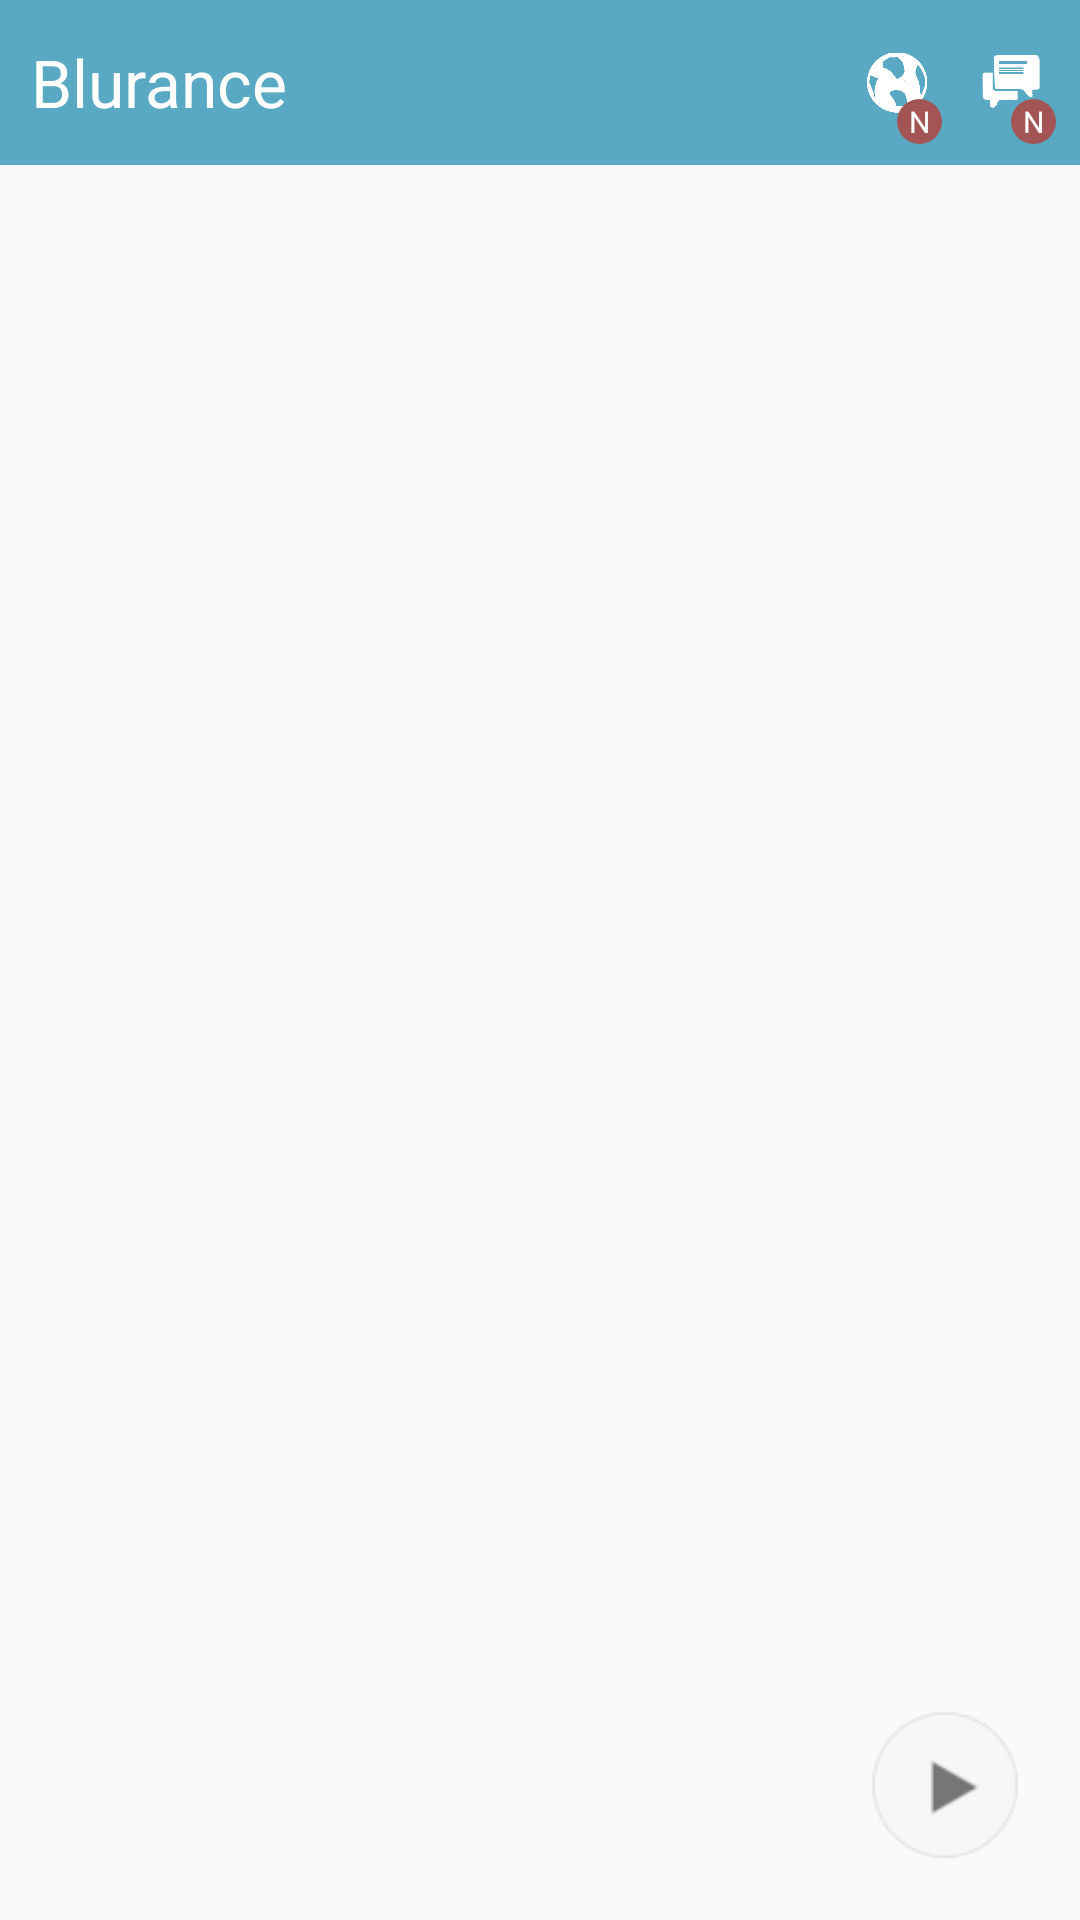

Icons on this 1080px x 1920px Android screen, each with the point to tap as (x=x, y=y):
message: (x=1019, y=99)
